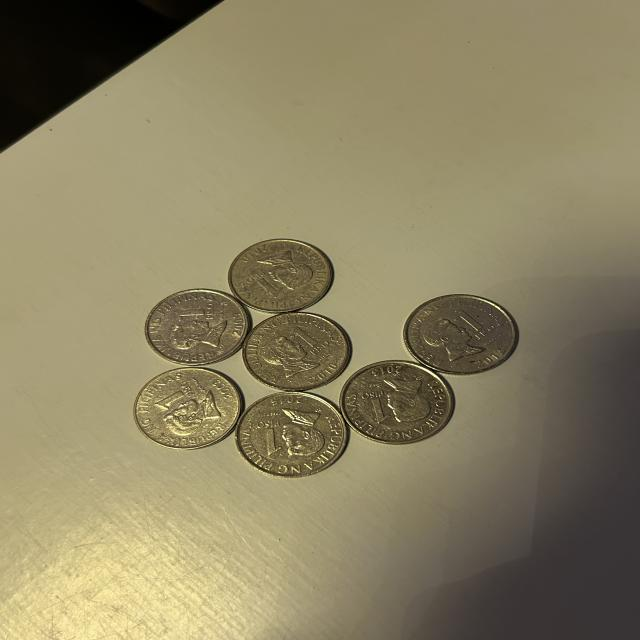1_Old_Front: (353, 381, 398, 426), (154, 380, 208, 414), (289, 321, 334, 360), (448, 311, 498, 345), (242, 268, 285, 307), (254, 422, 290, 461), (174, 306, 222, 332)
